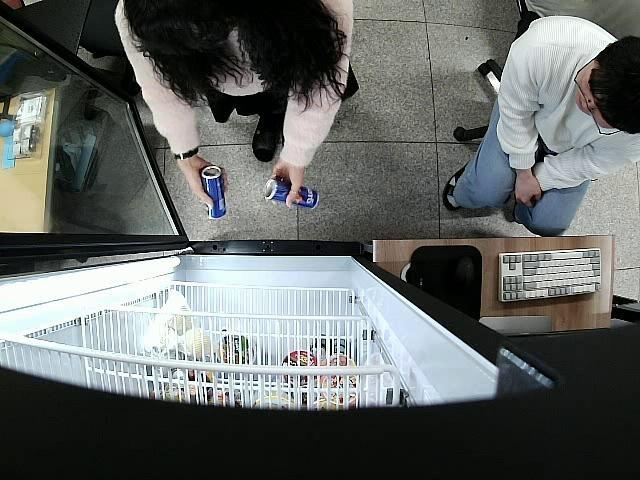16_hot6: (199, 162, 230, 224), (263, 178, 320, 210)
